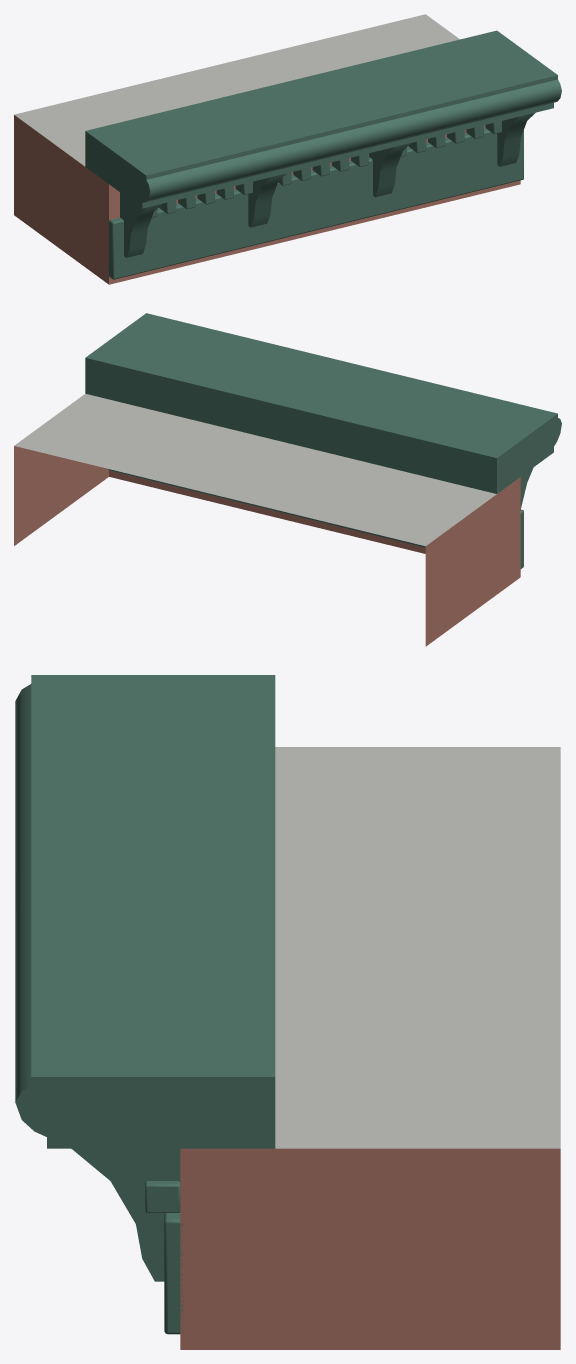
Rendered from cap_cornice_3.glb.
3 renders of one model, top to bottom at view 1: azimuth 30°, elevation 25°; view 2: azimuth 150°, elevation 25°; view 3: azimuth 270°, elevation 25°, orthographic. The views are drawn at different scales.
Parts seen in each view (by area): view 1: cap_cornice_3; view 2: cap_cornice_3; view 3: cap_cornice_3.
Part boxes in pixels (<box>): cap_cornice_3: <box>14,14,561,284</box>; cap_cornice_3: <box>14,313,561,646</box>; cap_cornice_3: <box>15,675,560,1349</box>.
Bounding box in the file's own units: 3 × 0.95 × 1.72.
